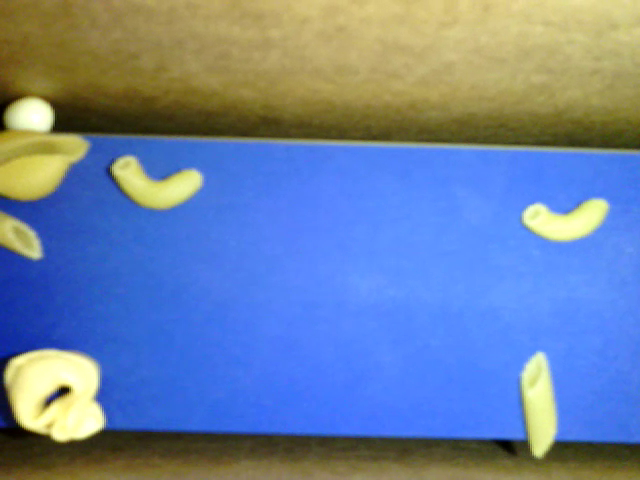elbow: (111, 154, 202, 210), (520, 196, 609, 244)
penne: (519, 349, 557, 459), (1, 212, 44, 259)
shell: (1, 129, 93, 203)
tortellini: (4, 349, 105, 443)
